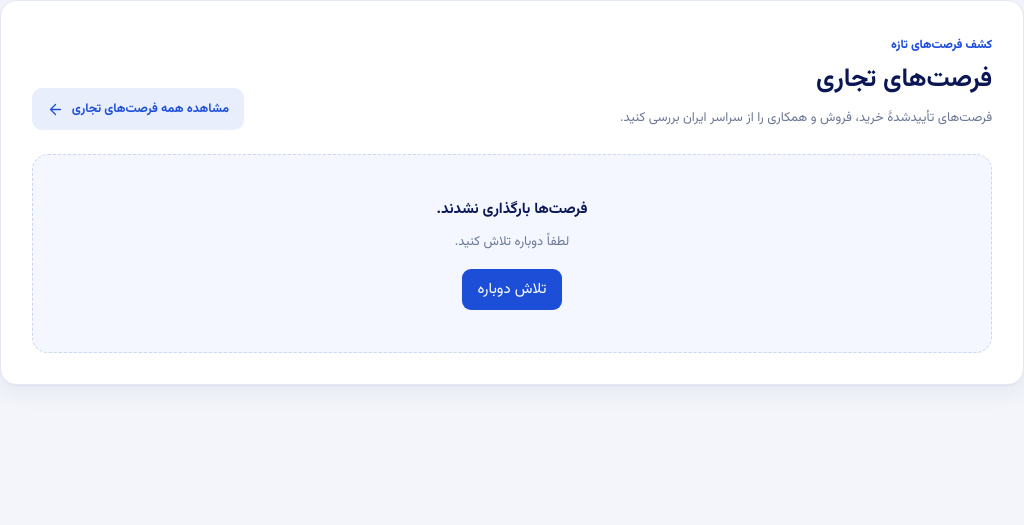
Test: TradeOpportunitiesSection › lets the visitor retry after a request error
Step 1. Click the button "تلاش دوباره" → (512, 290), box [462,269,562,310]
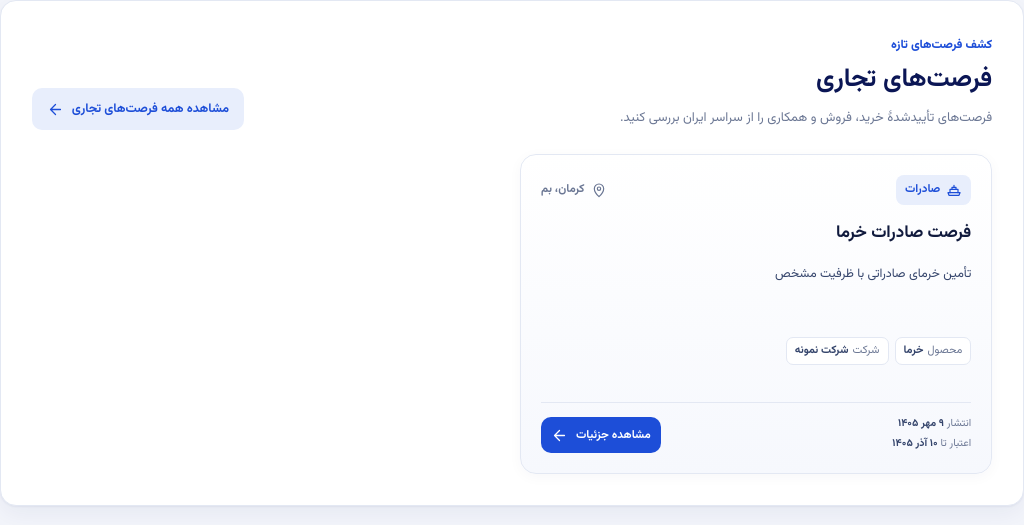
Expected: the heading "فرصت صادرات خرما" is shown, [836,220,971,246]
